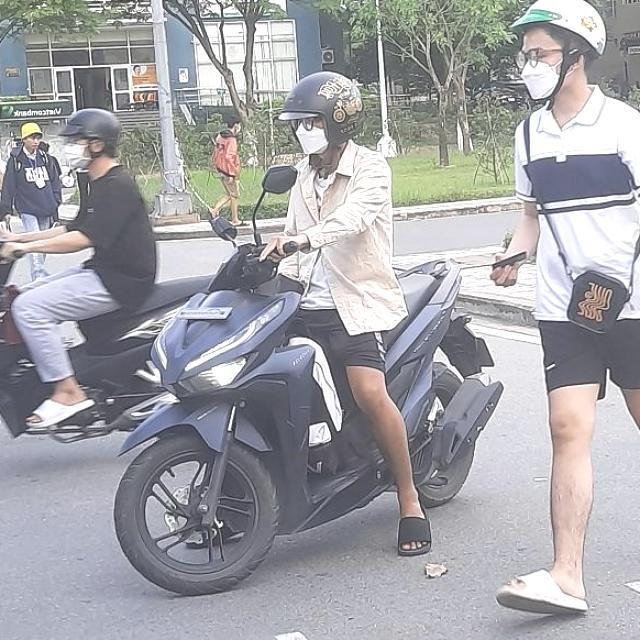Helmet: (515, 0, 608, 113), (284, 72, 363, 161), (50, 106, 126, 180)
